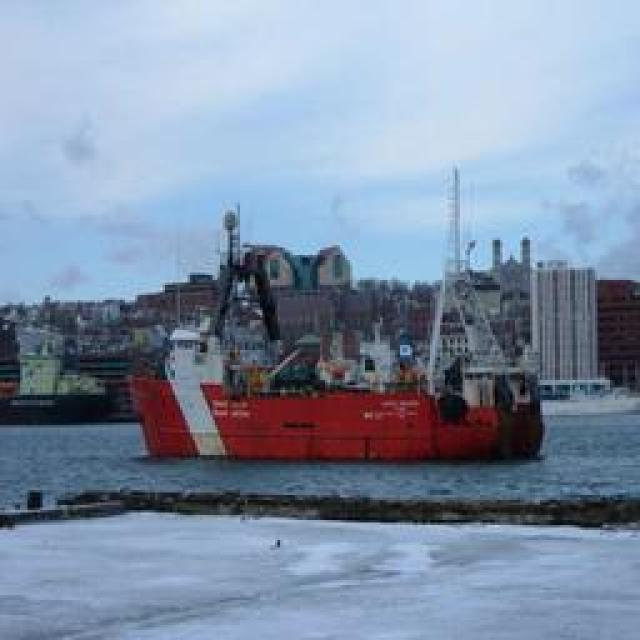CIV_Ship: (122, 176, 552, 466)
